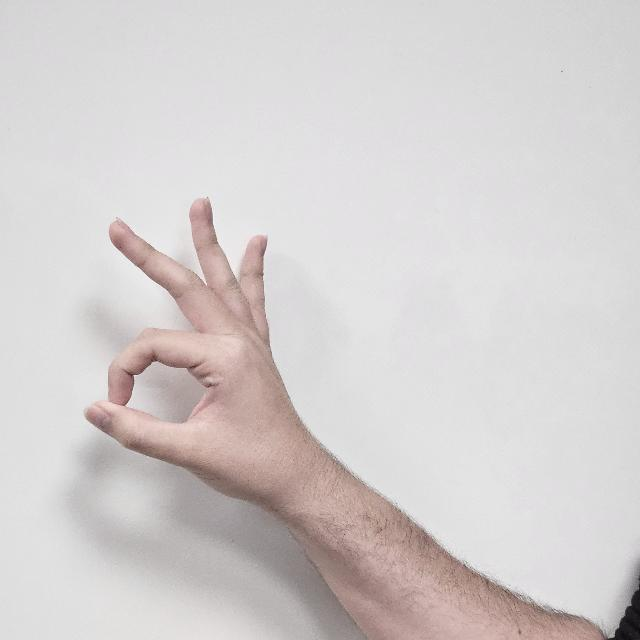Bolinha: (84, 164, 343, 544)
